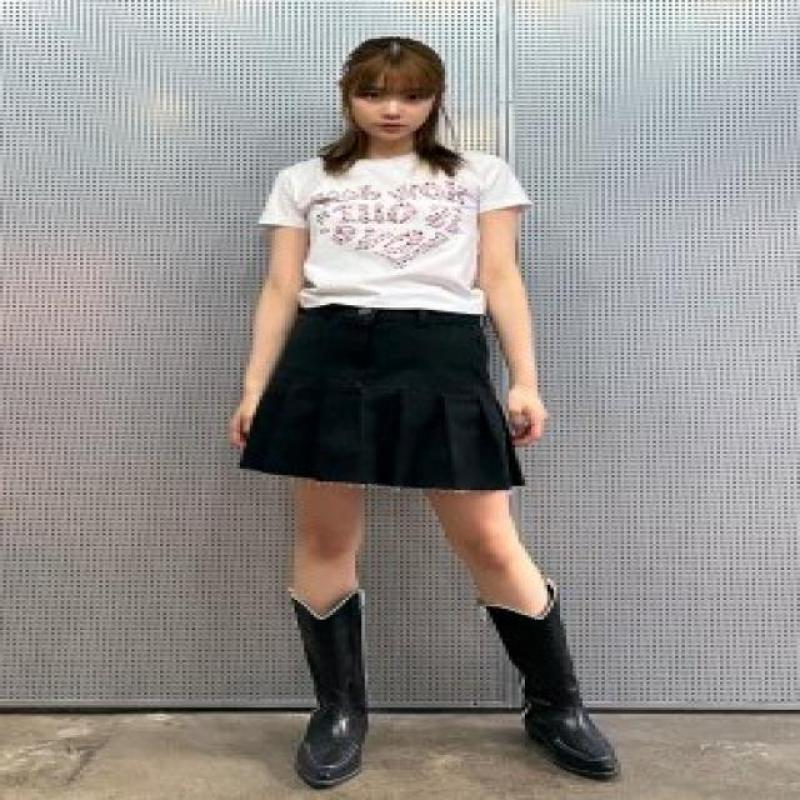short sleeve shirt: (256, 146, 536, 314)
skirt: (235, 307, 528, 495)
